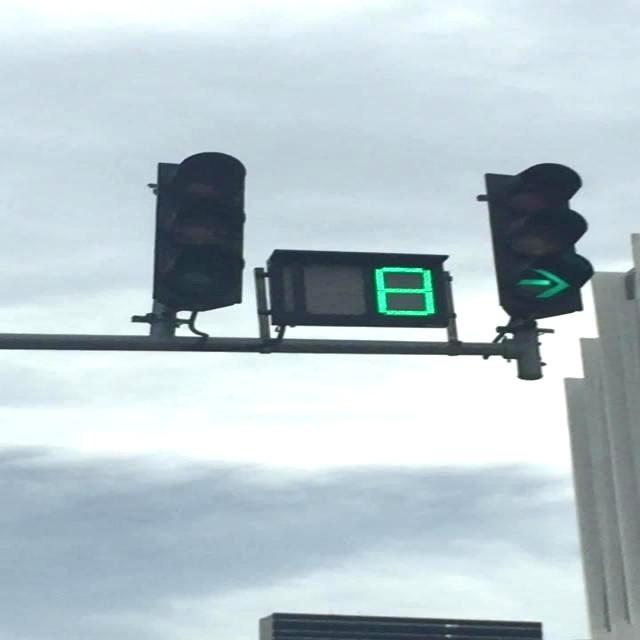Green: (482, 163, 593, 319)
